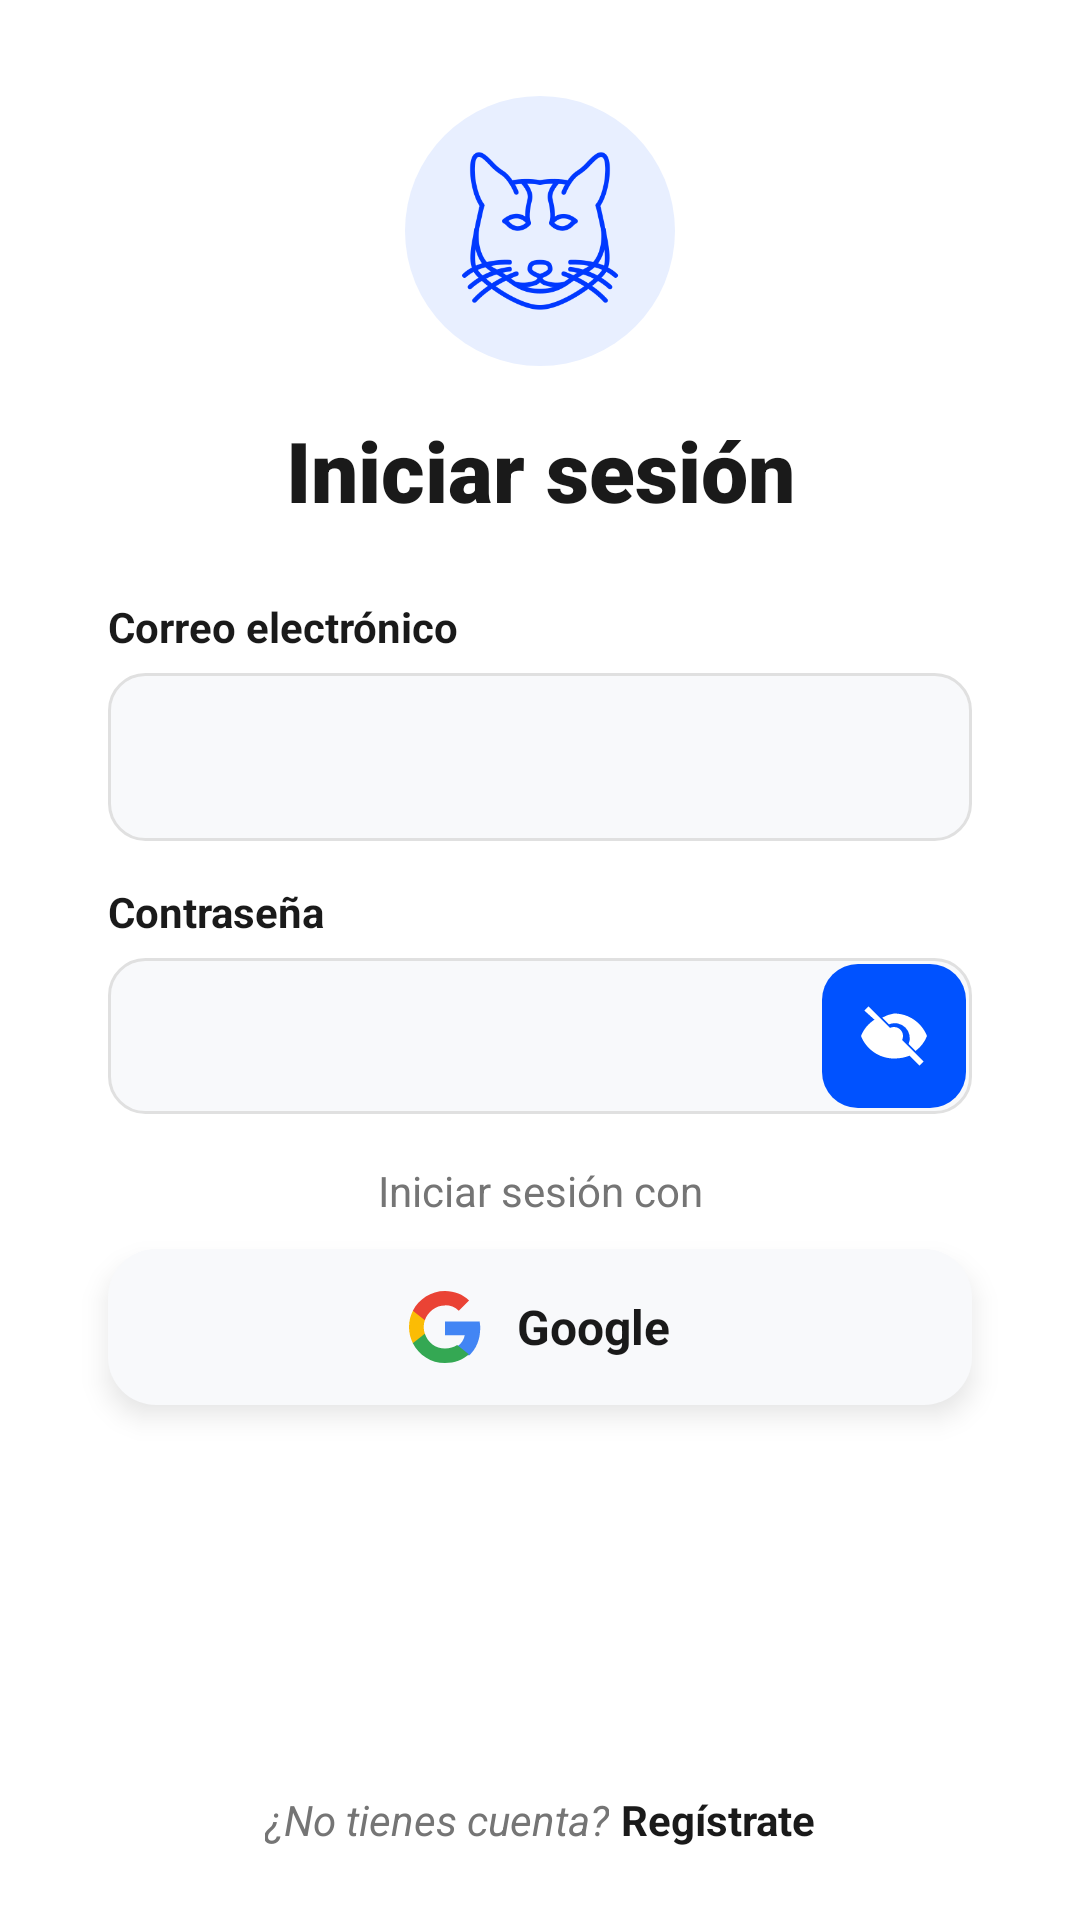

Icons on this 1080 x 1920 Android screen, each with its box as (x1, y1, x2, y2):
gato: (405, 96, 675, 366)
Mostrar contraseña: (822, 964, 966, 1108)
